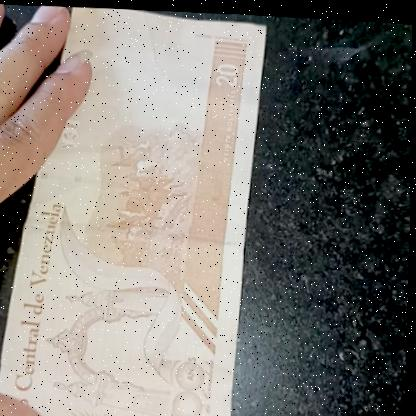twenty-back-vef: (0, 1, 274, 416)
